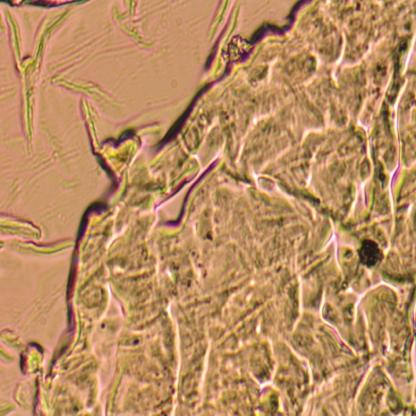Normal: (32, 0, 416, 416)
